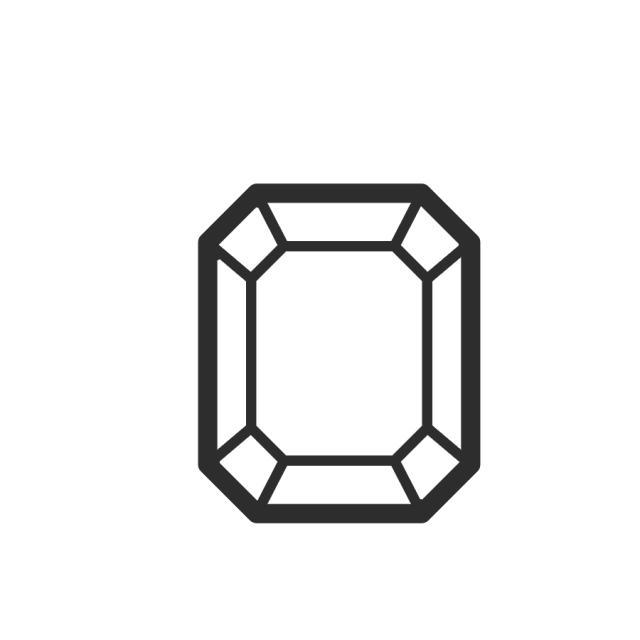emerald: (190, 177, 488, 532)
